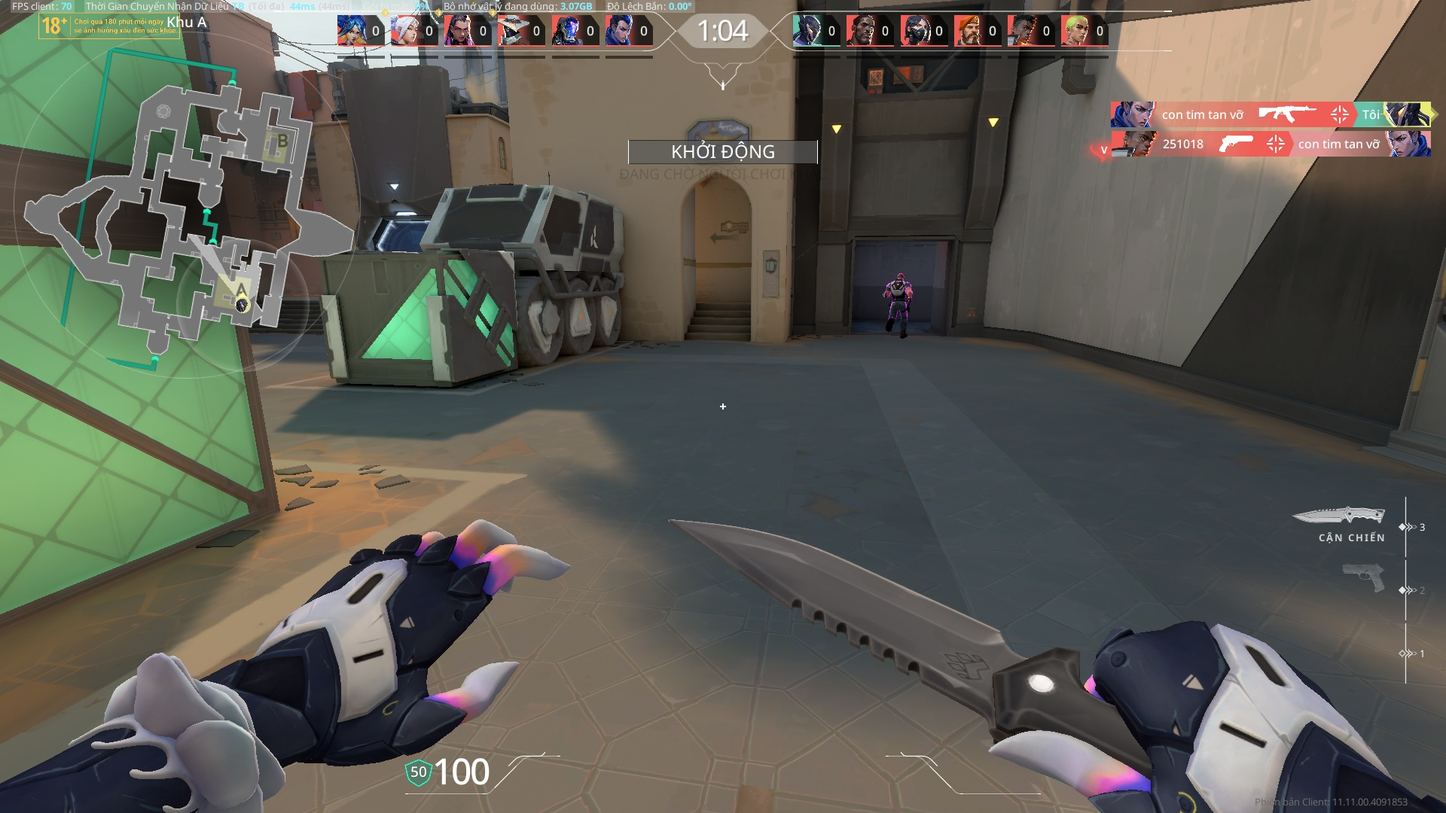body: (889, 283, 911, 303)
head: (893, 270, 902, 282)
